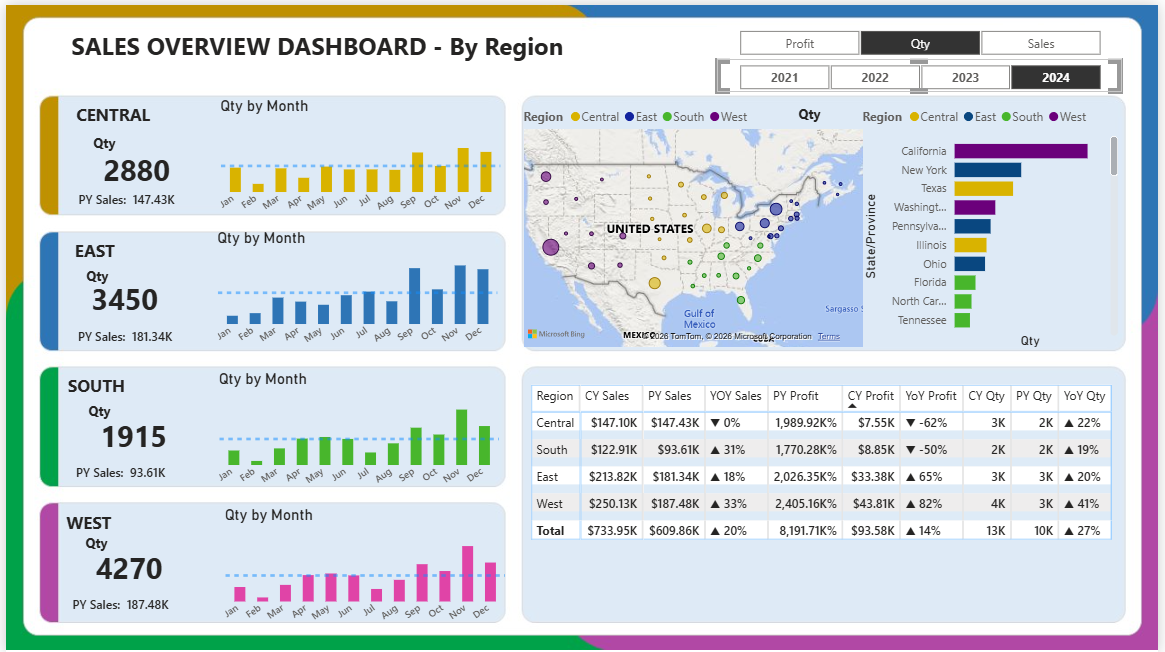

This screenshot's page, from the dashboard's own definition file:
{"tool":"powerbi","page":{"name":"Dashboard","canvas":[1280,720],"ordinal":0},"visuals":[{"type":"textbox","box":[68.4,103.4,106.6,39.8],"z":0},{"type":"slicer","fields":{"Values":["Calendar Table.Year"]},"box":[790.5,60.4,450.1,36.6],"z":1000},{"type":"slicer","fields":{"Values":["Select Metric.Select Metric"]},"box":[790.5,22.3,450.1,38.2],"z":2000},{"type":"card","fields":{"Values":["Sales Data.Total Profit"]},"box":[54.8,149.3,179.5,66.1],"z":3000},{"type":"card","fields":{"Values":["Sales Data.Dynamic Title"]},"box":[47.2,132.3,124.7,47.2],"z":4000},{"type":"card","fields":{"Values":["Sales Data.PY KPI Sales"]},"box":[66.1,194.9,133.9,45.8],"z":5000},{"type":"clusteredColumnChart","fields":{"Y":["Sales Data.Total Profit"],"Category":["Calendar Table.Month"]},"box":[233.8,101.8,321.3,136.8],"z":6000},{"type":"textbox","box":[31.8,22.3,628.3,57.3],"z":7000},{"type":"textbox","box":[58.9,254.5,85.9,39.8],"z":8000},{"type":"card","fields":{"Values":["Sales Data.Dynamic Title"]},"box":[38.2,279.9,125.7,46.1],"z":9000},{"type":"card","fields":{"Values":["Sales Data.PY KPI Sales"]},"box":[59.3,498.3,133.9,45.8],"z":10000},{"type":"clusteredColumnChart","fields":{"Y":["Sales Data.Total Profit"],"Category":["Calendar Table.Month"]},"box":[230,247.5,321.3,136.8],"z":11000},{"type":"textbox","box":[25.4,405.1,150.8,40.7],"z":12000},{"type":"card","fields":{"Values":["Sales Data.Dynamic Title"]},"box":[40.7,430.5,127.1,45.8],"z":13000},{"type":"card","fields":{"Values":["Sales Data.PY KPI Sales"]},"box":[64.4,347.5,133.9,47.5],"z":14000},{"type":"clusteredColumnChart","fields":{"Y":["Sales Data.Total Profit"],"Category":["Calendar Table.Month"]},"box":[232.2,405.6,321.3,136.8],"z":15000},{"type":"card","fields":{"Values":["Sales Data.Total Profit"]},"box":[50.9,445.4,179.7,66.8],"z":16000},{"type":"card","fields":{"Values":["Sales Data.PY KPI Sales"]},"box":[59.3,645.8,133.9,45.8],"z":17000},{"type":"textbox","box":[16.9,555.9,150.8,40.7],"z":18000},{"type":"clusteredColumnChart","fields":{"Y":["Sales Data.Total Profit"],"Category":["Calendar Table.Month"]},"box":[238.8,556.8,321.3,136.8],"z":19000},{"type":"card","fields":{"Values":["Sales Data.Total Profit"]},"box":[47.5,603.4,179.7,44.1],"z":20000},{"type":"card","fields":{"Values":["Sales Data.Dynamic Title"]},"box":[37.3,576.3,127.1,45.8],"z":21000},{"type":"card","fields":{"Values":["Sales Data.Total Profit"]},"box":[37.3,293.2,189.8,66.1],"z":22000},{"type":"map","title":"Sales By State","fields":{"Size":["Sales Data.Total Profit"],"Category":["Sales Data.State/Province"],"Series":["Sales Data.Region"]},"box":[570,103.3,386.7,281.7],"z":23000},{"type":"card","fields":{"Values":["Sales Data.Dynamic Title"]},"box":[810,100,165,46.7],"z":24000},{"type":"barChart","fields":{"Y":["Sales Data.Total Profit"],"Category":["Sales Data.State/Province"],"Series":["Sales Data.Region"]},"box":[946.7,103.3,293.3,281.7],"z":25000},{"type":"pivotTable","fields":{"Rows":["Sales Data.Region"],"Values":["Sales Data.CY Sales","Sales Data.PY Sales","Sales Data.YoY Sales","Sales Data.PY Profit","Sales Data.CY Profit","Sales Data.YoY Profit","Sales Data.CY Qty","Sales Data.PY Qty","Sales Data.YoY Qty"]},"box":[578.3,416.7,656.7,251.7],"z":26000}]}

Visuals, with their boxes in screenshot pixels (x1, y1, x2, y2), scaled from the page's 1280x720 canvas onto the 1165x652 screenshot:
textbox: pyautogui.locateOnScreen(62, 94, 159, 130)
slicer - Calendar Table.Year: pyautogui.locateOnScreen(719, 55, 1129, 88)
slicer - Select Metric.Select Metric: pyautogui.locateOnScreen(719, 20, 1129, 55)
card - Sales Data.Total Profit: pyautogui.locateOnScreen(50, 135, 213, 195)
card - Sales Data.Dynamic Title: pyautogui.locateOnScreen(43, 120, 156, 163)
card - Sales Data.PY KPI Sales: pyautogui.locateOnScreen(60, 176, 182, 218)
clusteredColumnChart - Sales Data.Total Profit x Calendar Table.Month: pyautogui.locateOnScreen(213, 92, 505, 216)
textbox: pyautogui.locateOnScreen(29, 20, 601, 72)
textbox: pyautogui.locateOnScreen(54, 230, 132, 267)
card - Sales Data.Dynamic Title: pyautogui.locateOnScreen(35, 253, 149, 295)
card - Sales Data.PY KPI Sales: pyautogui.locateOnScreen(54, 451, 176, 493)
clusteredColumnChart - Sales Data.Total Profit x Calendar Table.Month: pyautogui.locateOnScreen(209, 224, 502, 348)
textbox: pyautogui.locateOnScreen(23, 367, 160, 404)
card - Sales Data.Dynamic Title: pyautogui.locateOnScreen(37, 390, 153, 431)
card - Sales Data.PY KPI Sales: pyautogui.locateOnScreen(59, 315, 180, 358)
clusteredColumnChart - Sales Data.Total Profit x Calendar Table.Month: pyautogui.locateOnScreen(211, 367, 504, 491)
card - Sales Data.Total Profit: pyautogui.locateOnScreen(46, 403, 210, 464)
card - Sales Data.PY KPI Sales: pyautogui.locateOnScreen(54, 585, 176, 626)
textbox: pyautogui.locateOnScreen(15, 503, 153, 540)
clusteredColumnChart - Sales Data.Total Profit x Calendar Table.Month: pyautogui.locateOnScreen(217, 504, 510, 628)
card - Sales Data.Total Profit: pyautogui.locateOnScreen(43, 546, 207, 586)
card - Sales Data.Dynamic Title: pyautogui.locateOnScreen(34, 522, 150, 563)
card - Sales Data.Total Profit: pyautogui.locateOnScreen(34, 266, 207, 325)
"Sales By State" map: pyautogui.locateOnScreen(519, 94, 871, 349)
card - Sales Data.Dynamic Title: pyautogui.locateOnScreen(737, 91, 887, 133)
barChart - Sales Data.Total Profit x Sales Data.State/Province: pyautogui.locateOnScreen(862, 94, 1129, 349)
pivotTable - Sales Data.Region x Sales Data.CY Sales: pyautogui.locateOnScreen(526, 377, 1124, 605)
